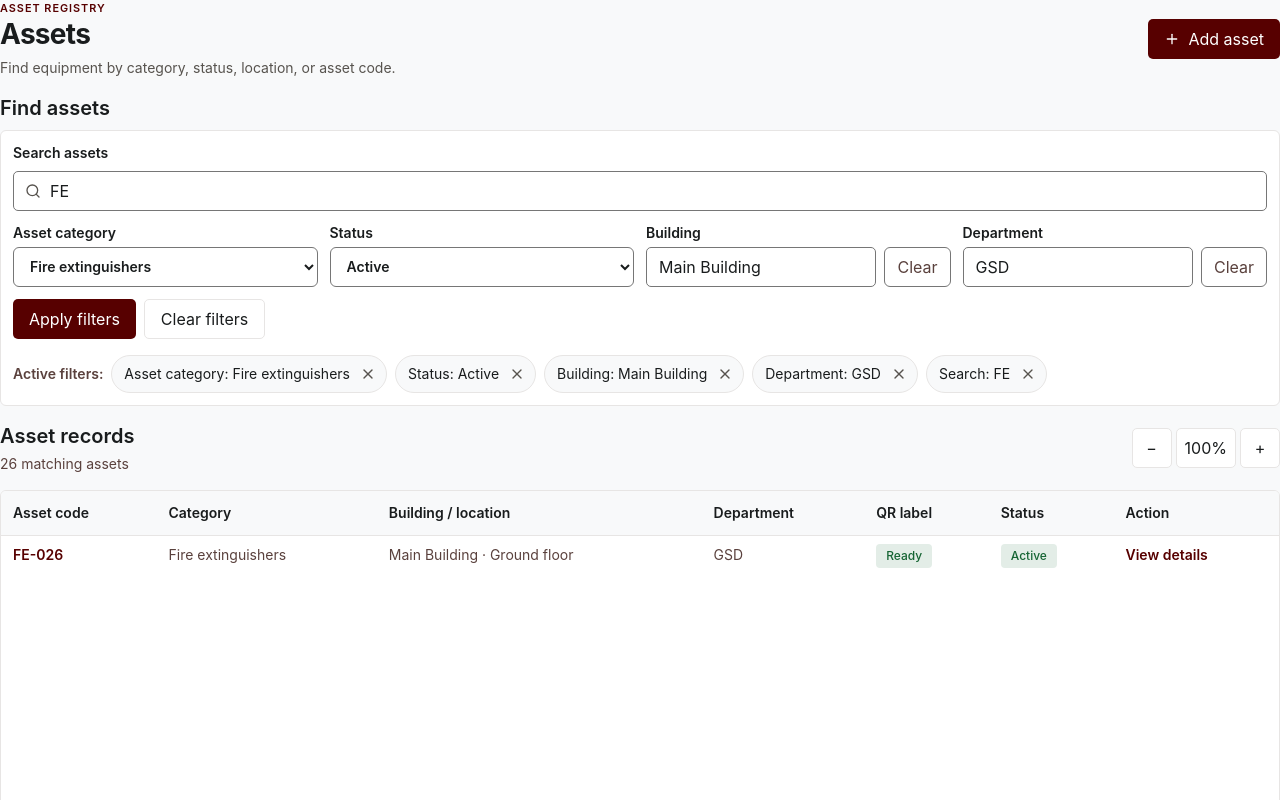
AssetRegistry feature component › restores URL filters as readable chips and removes an active filter
Expected: the link "FE-026" is shown, [13,546,63,563]
Expected: the field with placeholder "Asset code, QR, building, department, or location" holds "FE", [13,171,1267,211]
Click the button named "Remove Search filter". click: (1028, 374)
box: [1014,360,1042,388]
(page scrolled)
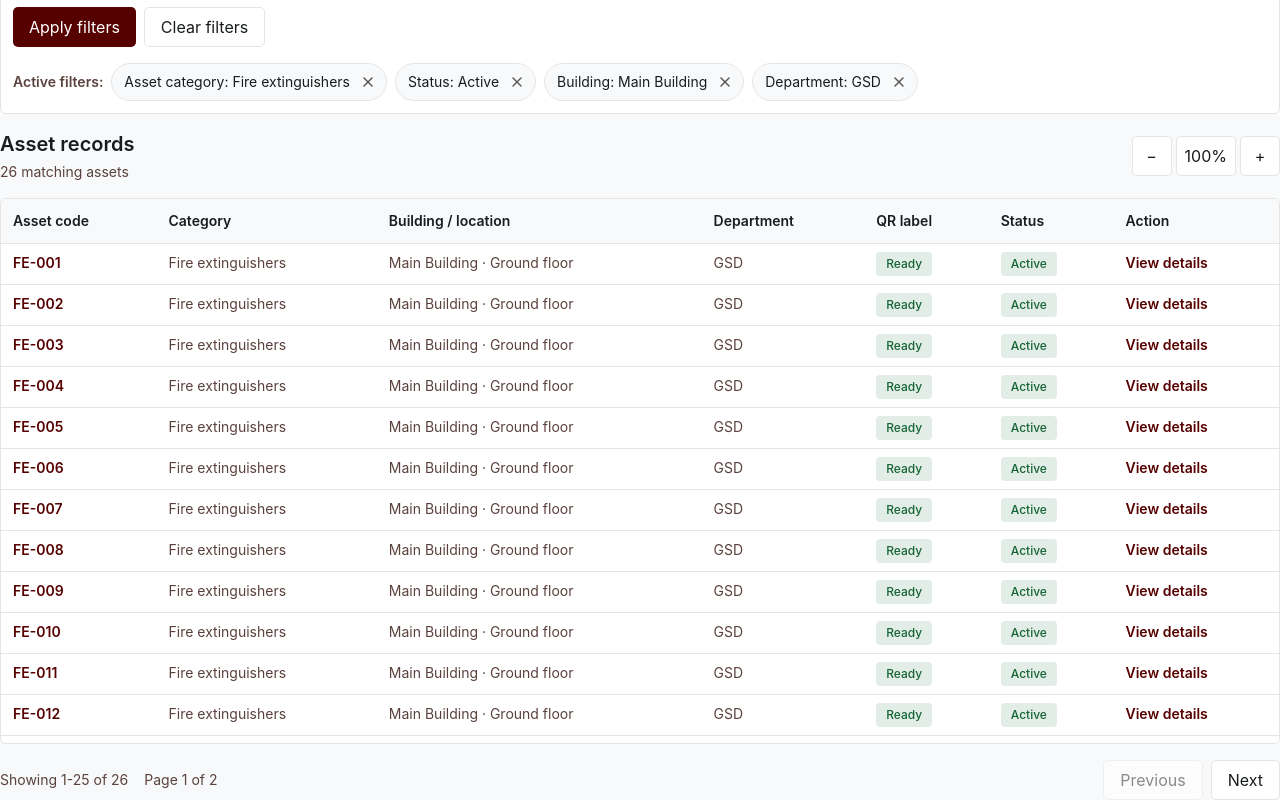
Expected: the text "Asset category: Fire extinguishers" is shown, [124,72,350,92]
Now the text "Search: FE" is gone
Now the text "Showing 1-25 of 26" is shown, box [0,770,128,790]
